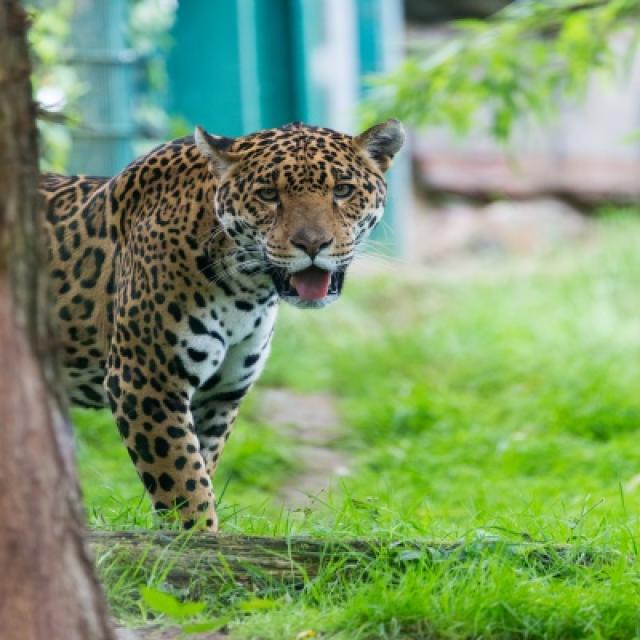Jaguar: (43, 122, 408, 533)
